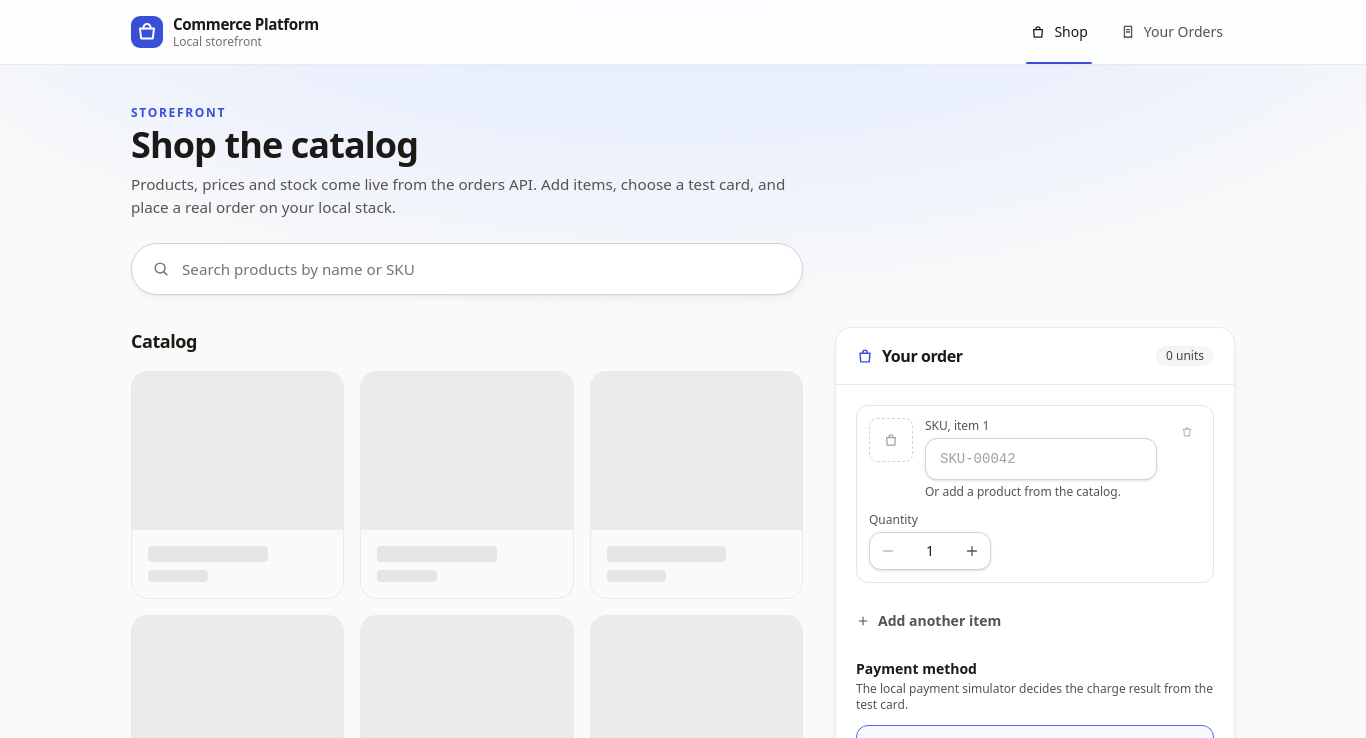
Test: product search: keyboard, pointer and dismissal › moves with the arrow keys, wraps back to the text, and selects with Enter
Type "lunar" into the dropdown labelled "Search products". click: (482, 269)
box: [182,244,782,294]
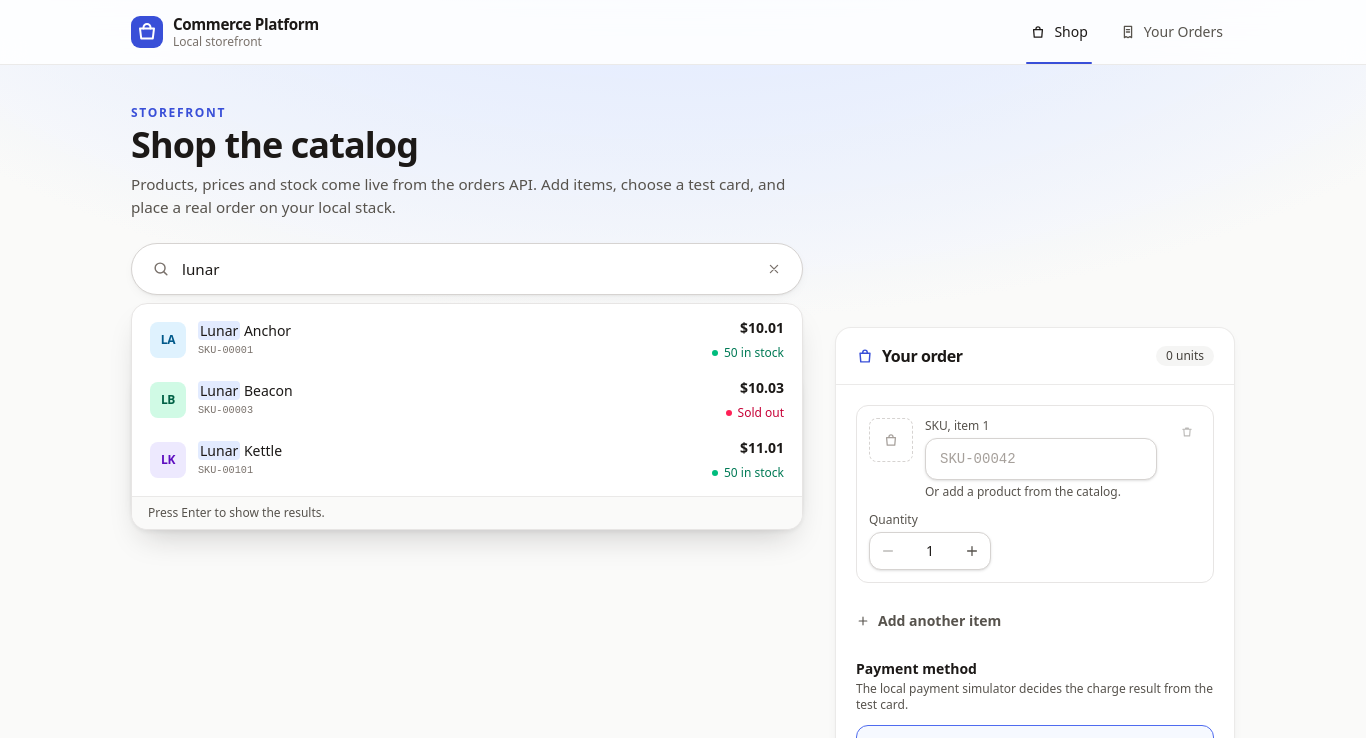
Now the number of options is 3, box [138,310,796,370]; [138,370,796,430]; [138,430,796,490]
Press ArrowDown in the dropdown named "Search products", box [182,244,746,294]
Press ArrowDown in the dropdown named "Search products", box [182,244,746,294]
Press ArrowDown in the dropdown named "Search products", box [182,244,746,294]
Press ArrowDown in the dropdown named "Search products", box [182,244,746,294]
Press ArrowUp in the dropdown named "Search products", box [182,244,746,294]
Press Enter in the dropdown named "Search products", box [182,244,746,294]
(page scrolled)
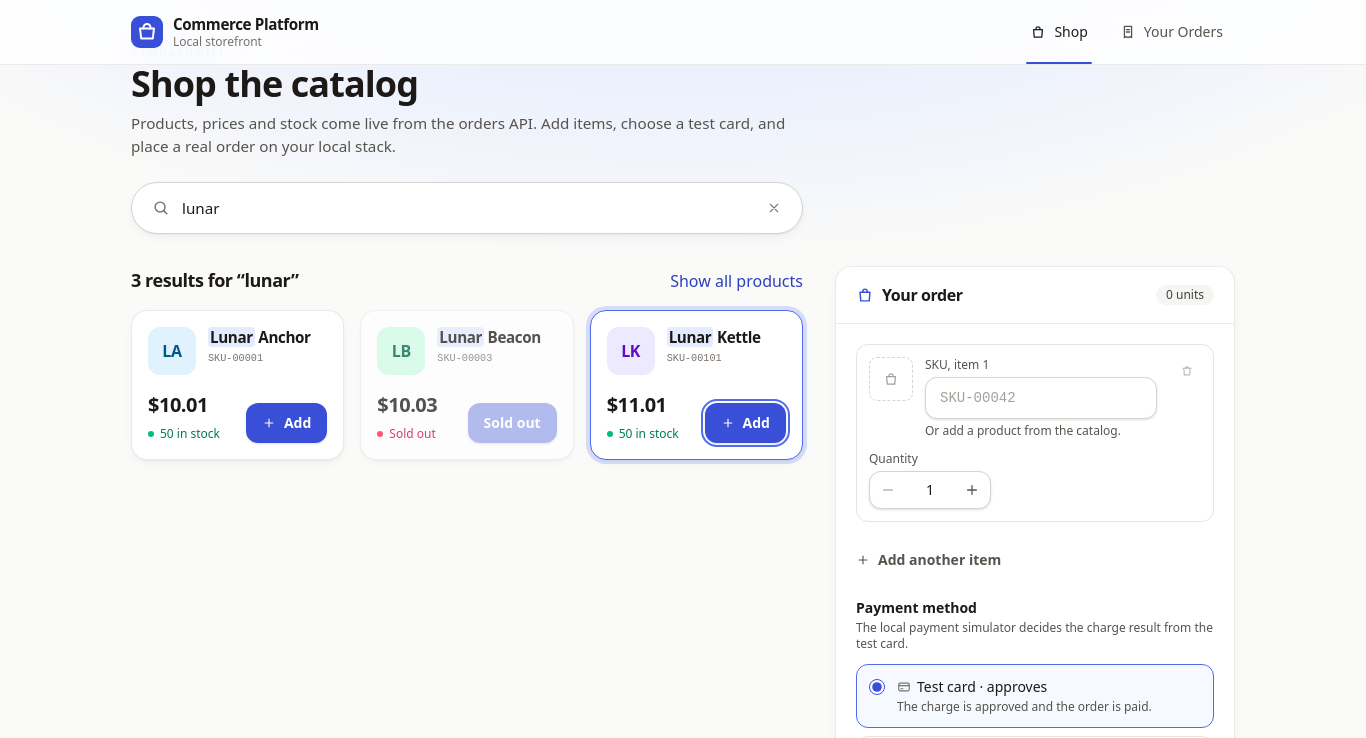
Now the dropdown named "Search products" is collapsed, box [182,183,746,233]
